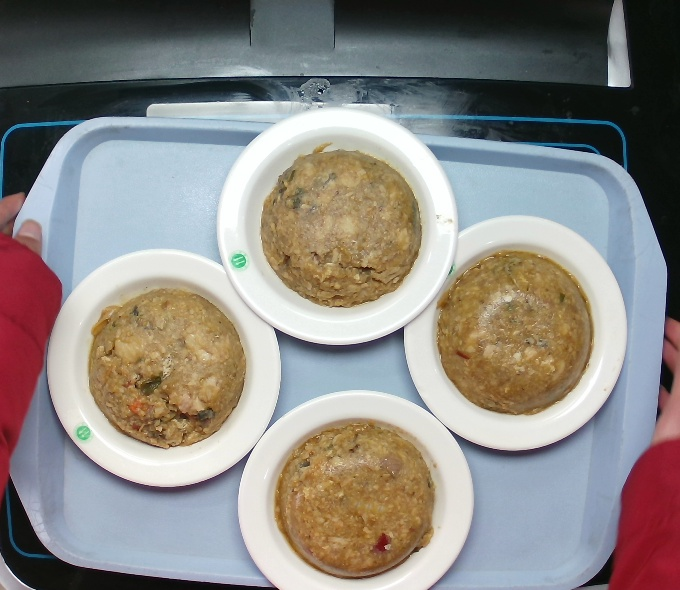wcq-YuDong: (249, 136, 426, 313), (436, 240, 595, 422), (272, 417, 438, 578), (83, 284, 244, 446)
